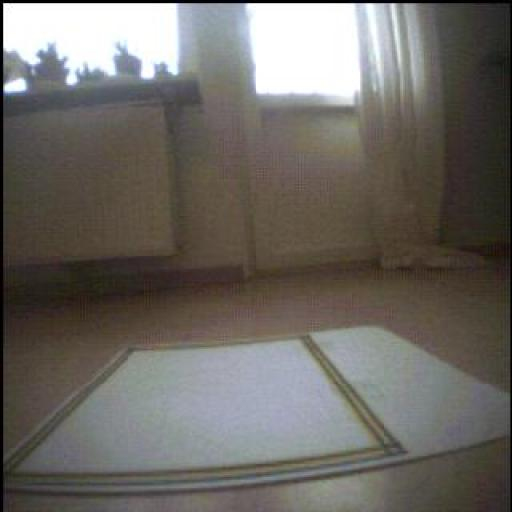Pad: (5, 329, 512, 494)
